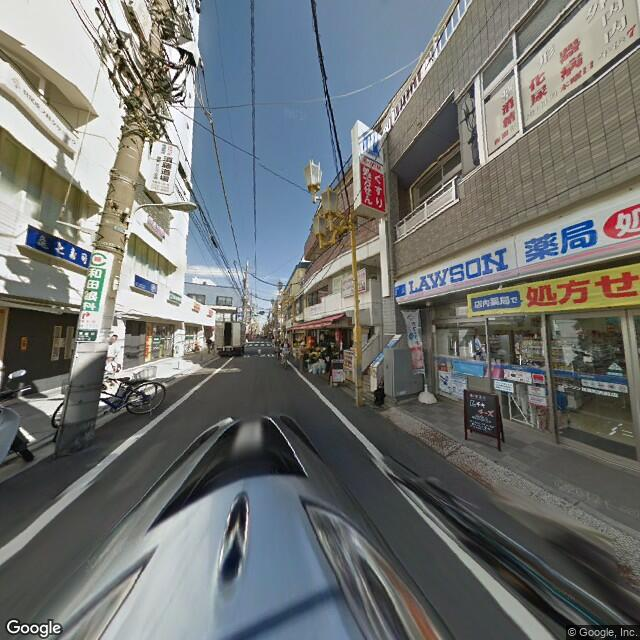lawson: (394, 193, 636, 304)
